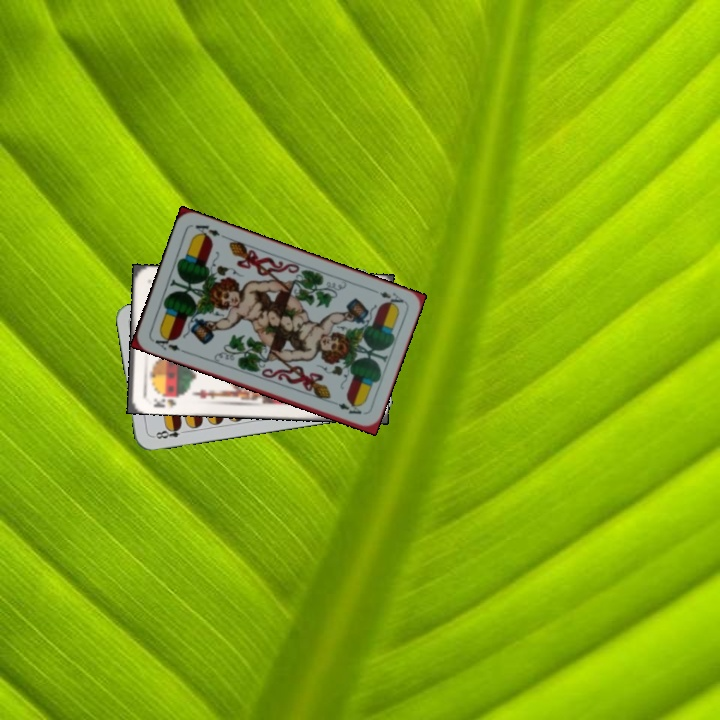E8: (149, 422, 190, 441)
EA: (148, 331, 188, 356), (367, 285, 406, 309)
SK: (149, 394, 179, 410)
